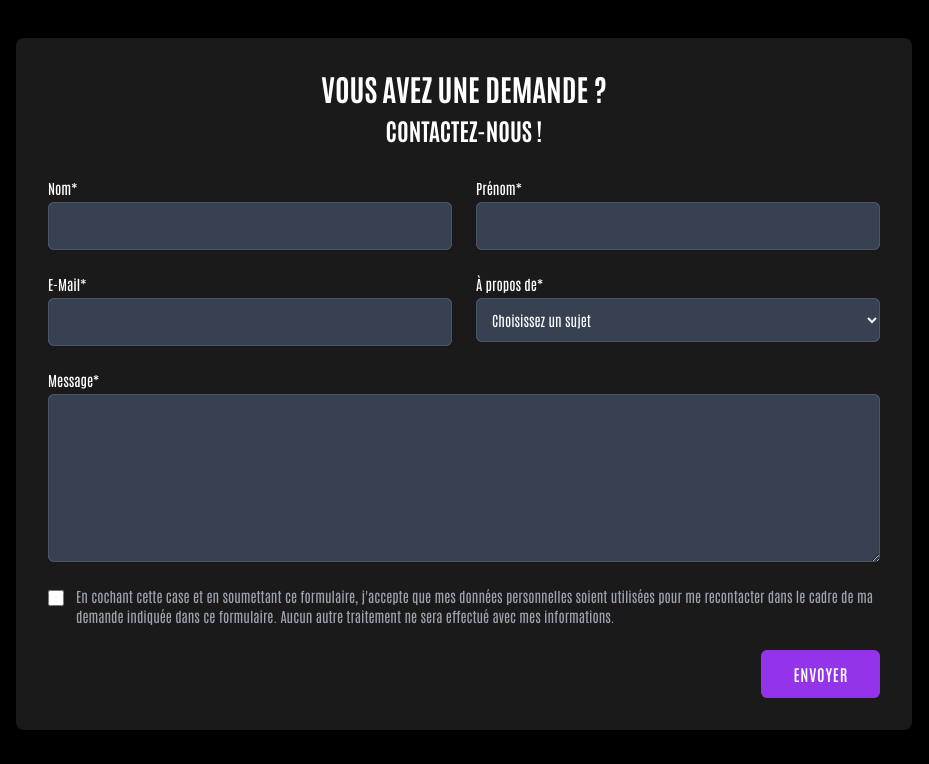
Test: ContactView — isRegistration › shows the registration info block when subject is "secretaire"
This screenshot has width=929, height=764.
Select "Inscription" in the dropdown with id "about": (678, 320) [476,298,880,342]
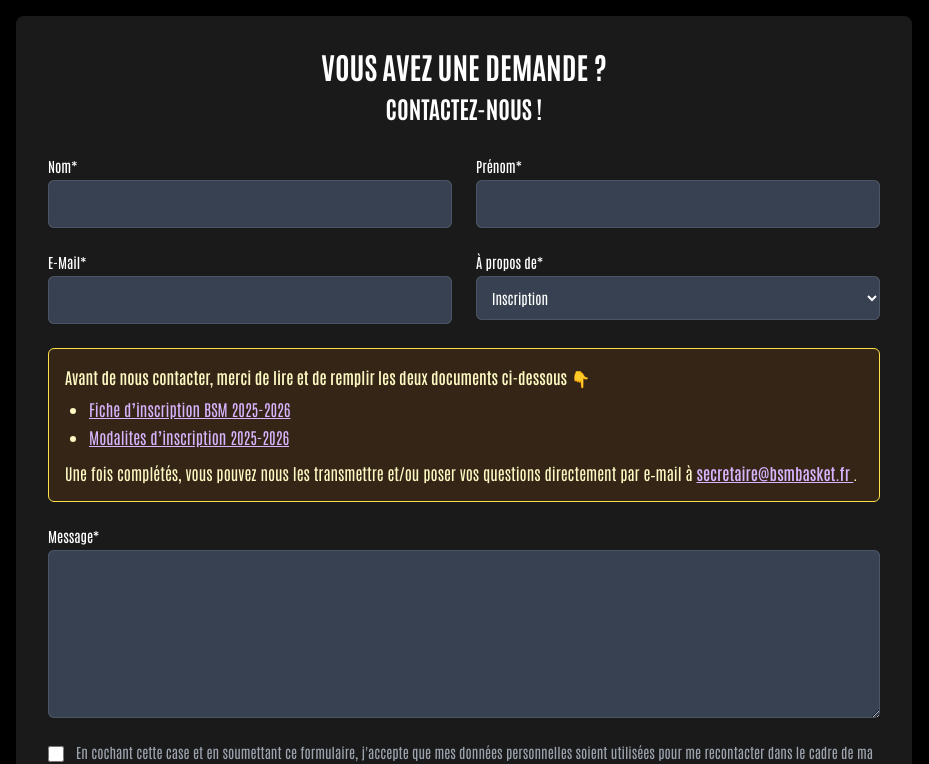
Check: the text "Avant de nous contacter" is shown, box [65,367,590,387]
